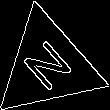N_SE: (17, 33, 79, 98)
